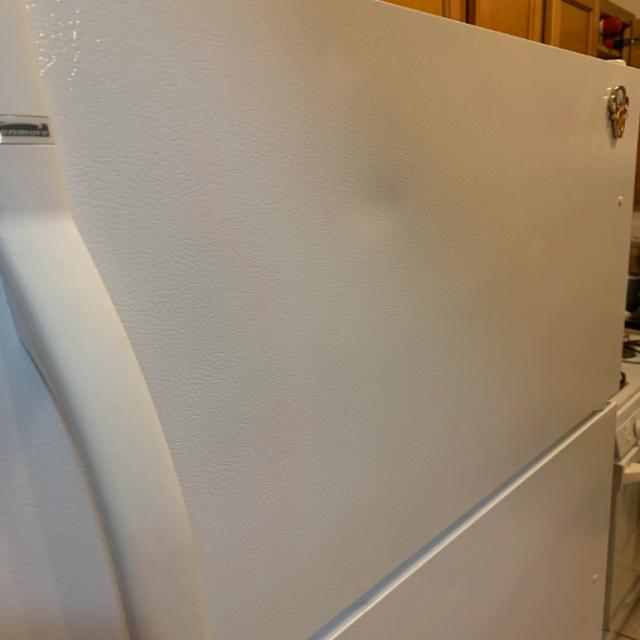dents: (326, 166, 440, 263)
